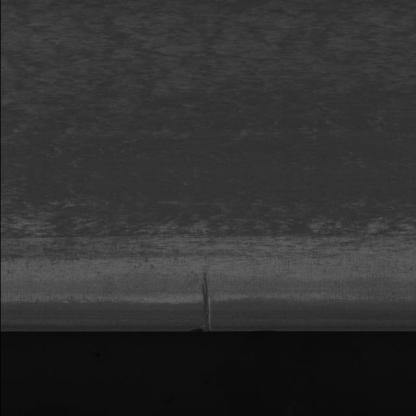crease: (186, 260, 218, 332)
silk_spot: (9, 10, 404, 237)
